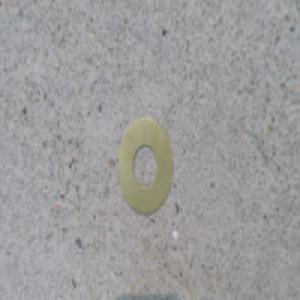Washer: (115, 101, 175, 204)
